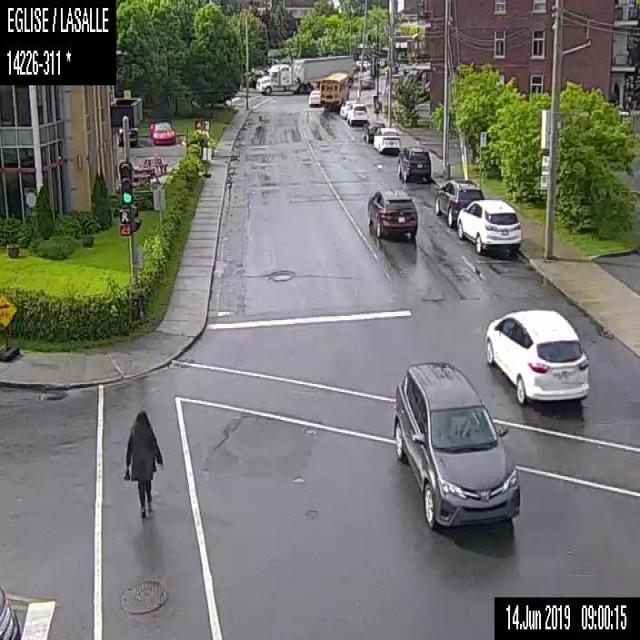bus: (320, 70, 350, 109)
pedestrian: (120, 409, 164, 522)
vehicle: (391, 358, 520, 534), (483, 305, 589, 404), (255, 54, 354, 94), (456, 197, 523, 256), (363, 187, 416, 237), (432, 177, 484, 226), (398, 144, 430, 183), (0, 584, 19, 639), (372, 124, 400, 152), (149, 120, 175, 145), (362, 118, 384, 142), (346, 102, 368, 125), (308, 88, 320, 106)
